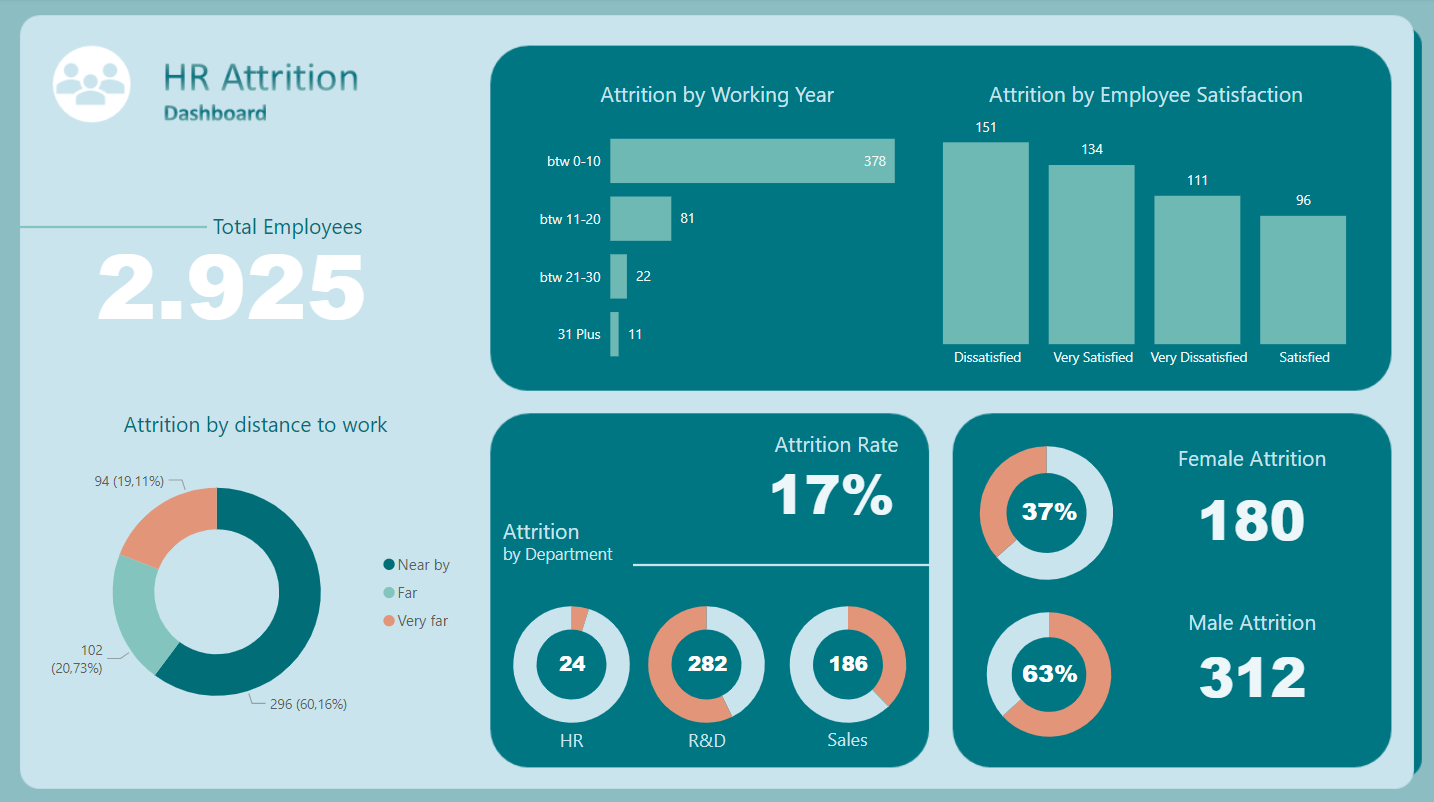

Layout of this report page (visuals, bound fields, positions):
{"tool":"powerbi","page":{"name":"Page 1","canvas":[1280,720],"ordinal":0},"visuals":[{"type":"card","fields":{"Values":["All Measures.Total Employees"]},"box":[68.3,184.4,282.9,128.6],"z":0},{"type":"donutChart","fields":{"Category":["Data.Distance Status"],"Y":["All Measures.Total Attrition"]},"box":[44.7,367.7,373.5,317.1],"z":1000},{"type":"barChart","fields":{"Category":["Data.Working Years Group"],"Y":["All Measures.Total Attrition"]},"box":[472.6,91.3,344.9,253.6],"z":2000},{"type":"columnChart","fields":{"Y":["All Measures.Total Attrition"],"Category":["Data.Job Satisfation Status"]},"box":[798,55.9,445.1,281.1],"z":3000},{"type":"card","fields":{"Values":["All Measures.% Attrition"]},"box":[677.4,401.7,128.6,71.8],"z":4000},{"type":"donutChart","fields":{"Y":["All Measures.HR Department","All Measures.Remain HR"]},"box":[441.6,521.4,139.2,139.2],"z":5000},{"type":"donutChart","fields":{"Y":["All Measures.Remain R&D","All Measures.R&D Department"]},"box":[556,521.4,149.9,139.2],"z":6000},{"type":"donutChart","fields":{"Y":["All Measures.Sales Department","All Measures.Remain Sales"]},"box":[686.3,521.4,140.1,139.2],"z":7000},{"type":"donutChart","fields":{"Category":["Data.Gender"],"Y":["All Measures.Total Attrition"]},"box":[846.8,377.7,171.1,157.8],"z":8000},{"type":"donutChart","fields":{"Category":["Data.Gender"],"Y":["All Measures.Total Attrition"]},"box":[846.8,525.8,175.6,148.1],"z":9000},{"type":"textbox","box":[101.1,184.4,316.6,47],"z":10000},{"type":"textbox","box":[474.4,67.4,331.6,37.2],"z":11000},{"type":"textbox","box":[844.1,67.4,352.9,37.2],"z":12000},{"type":"textbox","box":[29.3,360,403.4,47],"z":13000},{"type":"textbox","box":[662.4,377.7,143.6,37.2],"z":14000},{"type":"textbox","box":[948.8,390.1,331.6,37.2],"z":15000},{"type":"textbox","box":[948.8,535.6,331.6,37.2],"z":16000},{"type":"card","fields":{"Values":["All Measures.HR Department"]},"box":[477.9,563.9,67.4,55.9],"z":17000},{"type":"card","fields":{"Values":["All Measures.Sales Department"]},"box":[722.7,563.9,67.4,55.9],"z":18000},{"type":"textbox","box":[445.1,454.9,110.8,37.2],"z":19000},{"type":"textbox","box":[445.1,477,121.5,31],"z":20000},{"type":"textbox","box":[490.3,642,41.7,37.2],"z":21000},{"type":"textbox","box":[603.8,642,55,37.2],"z":22000},{"type":"textbox","box":[724.4,641.1,63,39],"z":23000},{"type":"shape","box":[14.2,196.8,173.8,12.4],"z":24000},{"type":"card","fields":{"Values":["All Measures.% Female Attrition"]},"box":[902.7,425.6,64.7,61.2],"z":25000},{"type":"card","fields":{"Values":["All Measures.% Male Attrition"]},"box":[896.5,563.9,78,71.8],"z":26000},{"type":"shape","box":[566,496.8,281.1,12.4],"z":27000},{"type":"card","fields":{"Values":["All Measures.Total Attrition"]},"box":[1049.9,424.7,128.6,71.8],"z":28000},{"type":"card","fields":{"Values":["All Measures.Total Attrition"]},"box":[1050.5,564.1,128.4,72],"z":29000},{"type":"card","fields":{"Values":["All Measures.R&D Department"]},"box":[597.2,564.1,68.1,56.4],"z":30000}]}

Visuals, with their boxes in screenshot pixels (x1, y1, x2, y2), scaled from the page's 1280x720 canvas onto the 1434x802 screenshot:
card - All Measures.Total Employees: [x1=77, y1=205, x2=393, y2=349]
donutChart - Data.Distance Status x All Measures.Total Attrition: [x1=50, y1=410, x2=469, y2=763]
barChart - Data.Working Years Group x All Measures.Total Attrition: [x1=529, y1=102, x2=916, y2=384]
columnChart - All Measures.Total Attrition x Data.Job Satisfation Status: [x1=894, y1=62, x2=1393, y2=375]
card - All Measures.% Attrition: [x1=759, y1=447, x2=903, y2=527]
donutChart - All Measures.HR Department x All Measures.Remain HR: [x1=495, y1=581, x2=651, y2=736]
donutChart - All Measures.Remain R&D x All Measures.R&D Department: [x1=623, y1=581, x2=791, y2=736]
donutChart - All Measures.Sales Department x All Measures.Remain Sales: [x1=769, y1=581, x2=926, y2=736]
donutChart - Data.Gender x All Measures.Total Attrition: [x1=949, y1=421, x2=1140, y2=596]
donutChart - Data.Gender x All Measures.Total Attrition: [x1=949, y1=586, x2=1145, y2=751]
textbox: [x1=113, y1=205, x2=468, y2=258]
textbox: [x1=531, y1=75, x2=903, y2=117]
textbox: [x1=946, y1=75, x2=1341, y2=117]
textbox: [x1=33, y1=401, x2=485, y2=453]
textbox: [x1=742, y1=421, x2=903, y2=462]
textbox: [x1=1063, y1=435, x2=1433, y2=476]
textbox: [x1=1063, y1=597, x2=1433, y2=638]
card - All Measures.HR Department: [x1=535, y1=628, x2=611, y2=690]
card - All Measures.Sales Department: [x1=810, y1=628, x2=885, y2=690]
textbox: [x1=499, y1=507, x2=623, y2=548]
textbox: [x1=499, y1=531, x2=635, y2=566]
textbox: [x1=549, y1=715, x2=596, y2=757]
textbox: [x1=676, y1=715, x2=738, y2=757]
textbox: [x1=812, y1=714, x2=882, y2=758]
shape: [x1=16, y1=219, x2=211, y2=233]
card - All Measures.% Female Attrition: [x1=1011, y1=474, x2=1084, y2=542]
card - All Measures.% Male Attrition: [x1=1004, y1=628, x2=1092, y2=708]
shape: [x1=634, y1=553, x2=949, y2=567]
card - All Measures.Total Attrition: [x1=1176, y1=473, x2=1320, y2=553]
card - All Measures.Total Attrition: [x1=1177, y1=628, x2=1321, y2=709]
card - All Measures.R&D Department: [x1=669, y1=628, x2=745, y2=691]
